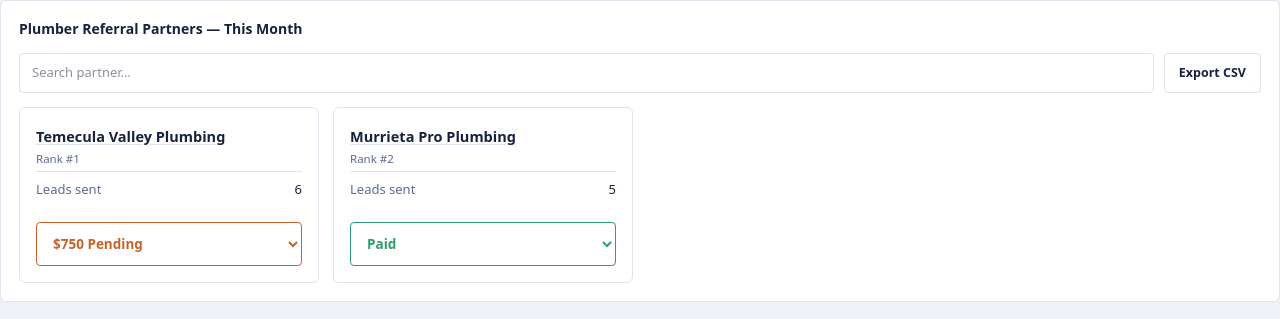
ReferralLeaderboardView › undo reverts a settled fee and restores the pending total
The width and height of the screenshot is (1280, 319).
Select "Approve Fee" in the 1st dropdown. click: (169,244)
box: x1=36 y1=222 x2=302 y2=266
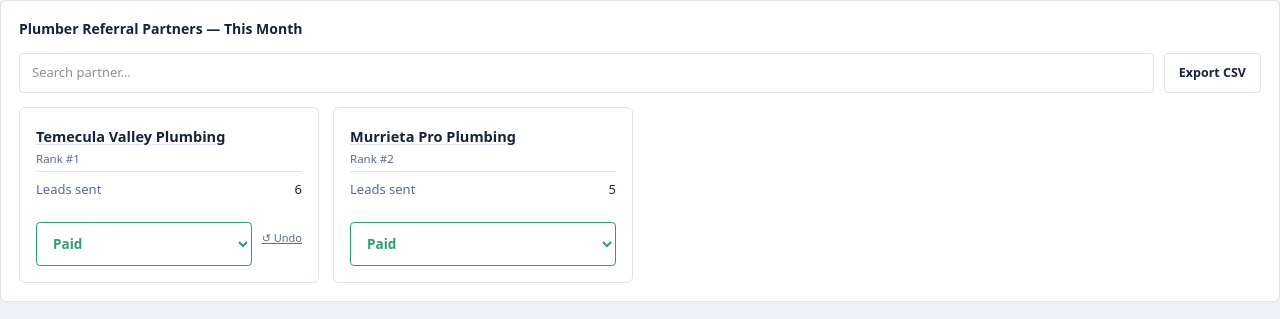
Click the button "↺ Undo". click: (282,238)
box: x1=262 y1=230 x2=302 y2=246
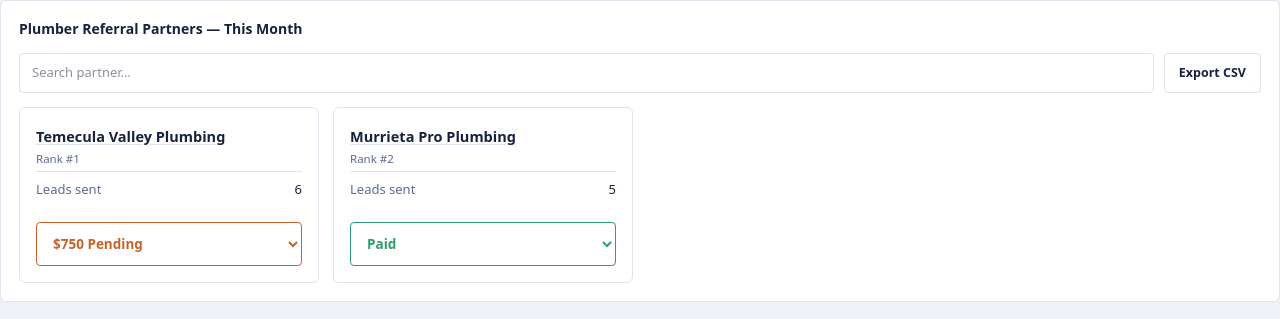
Expected: the button "↺ Undo" is gone
